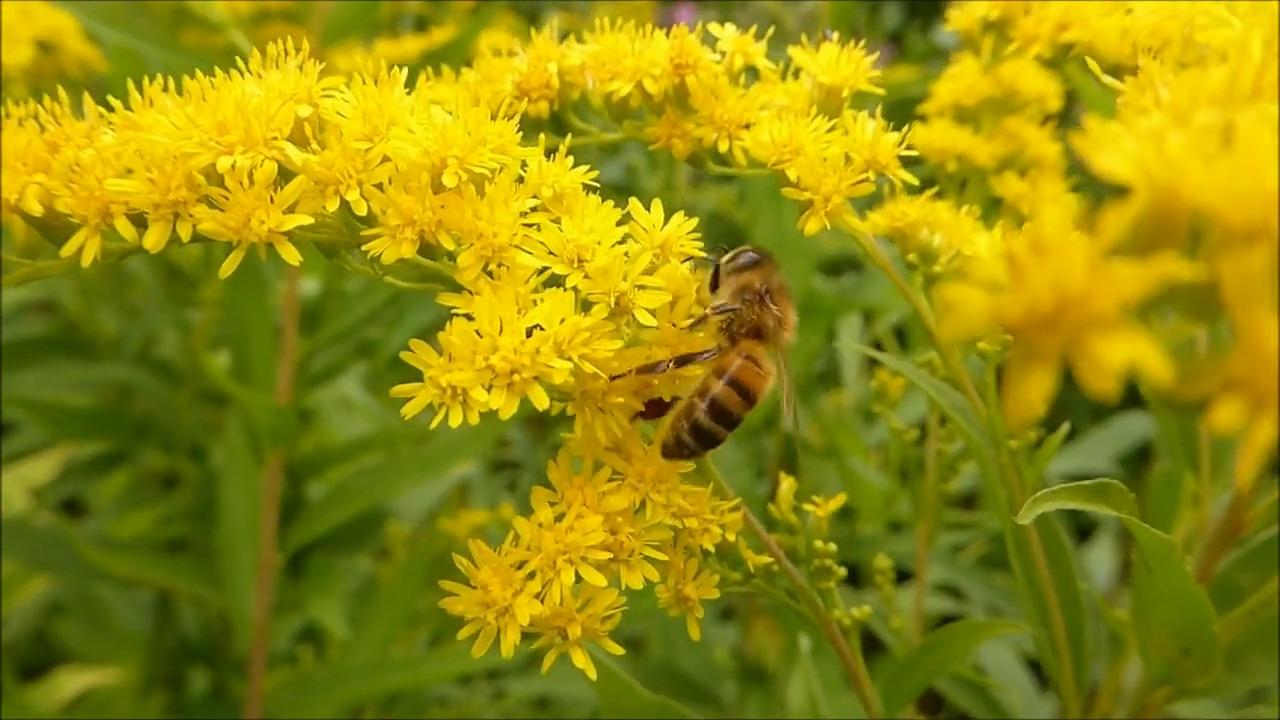bee: (661, 246, 794, 459)
